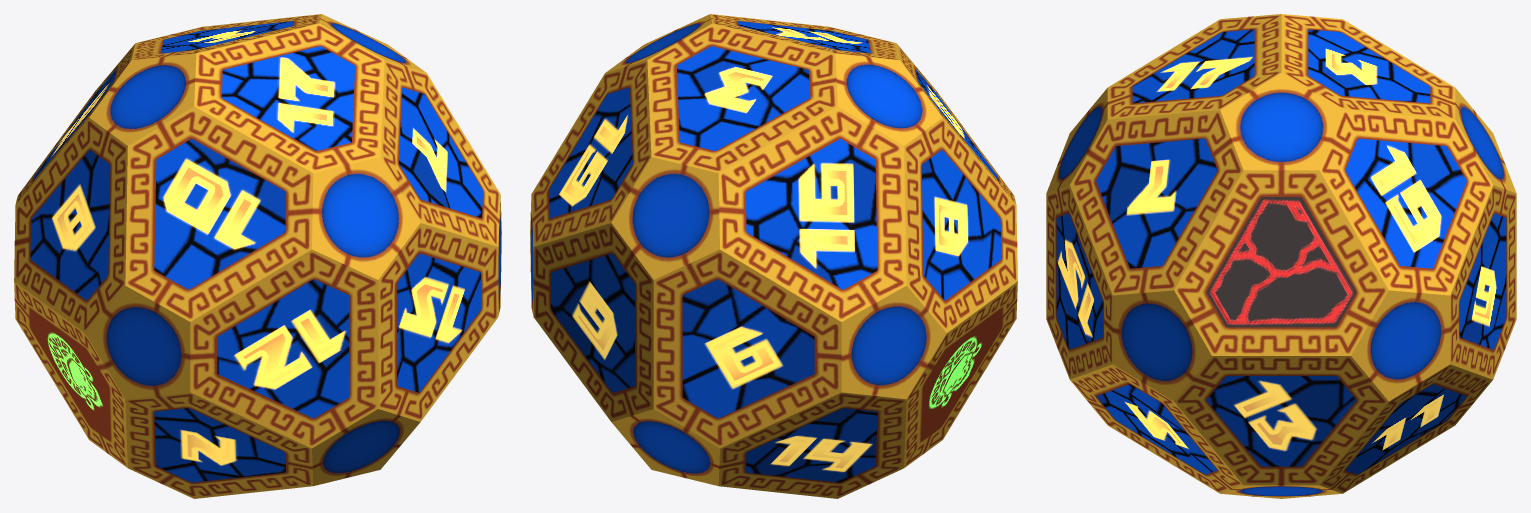
3 renders of one model, left to right at view 1: azimuth 30°, elevation 25°; view 2: azimuth 150°, elevation 25°; view 3: azimuth 270°, elevation 25°, orthographic. The views are drawn at different scales.
Visible parts, largest first — view 1: D20; view 2: D20; view 3: D20.
Boxes of the visible parts, x1,y1,x2,y2 form: D20: (14,14,501,498); D20: (530,14,1017,498); D20: (1046,14,1516,498).
Bounding box in the file's own units: 170 × 170 × 170.
1 material, 1 textured.
